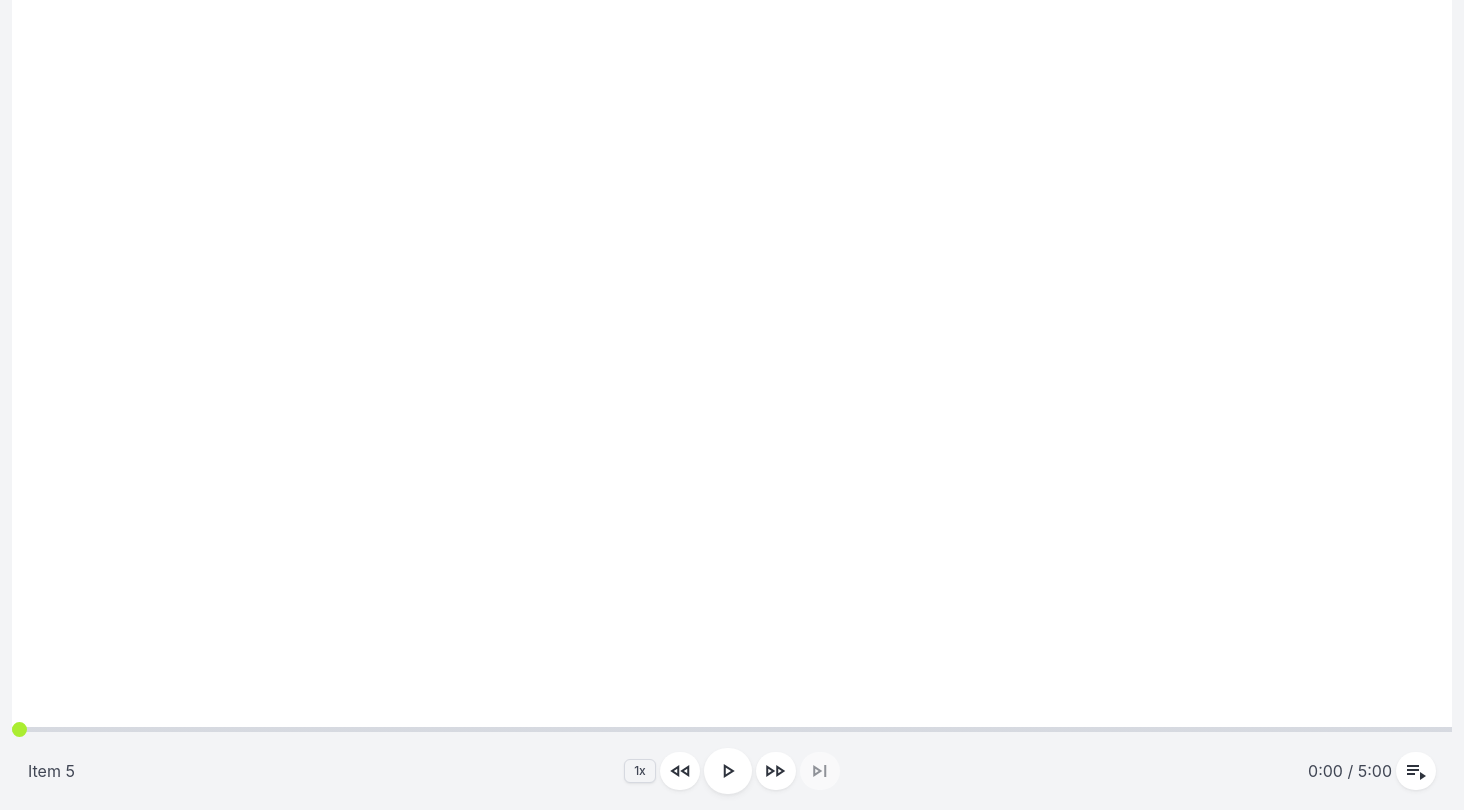
Test case: playback controls › cycles the playback rate
Click the button with class "tag". click: (640,771)
box: [624,759,656,783]
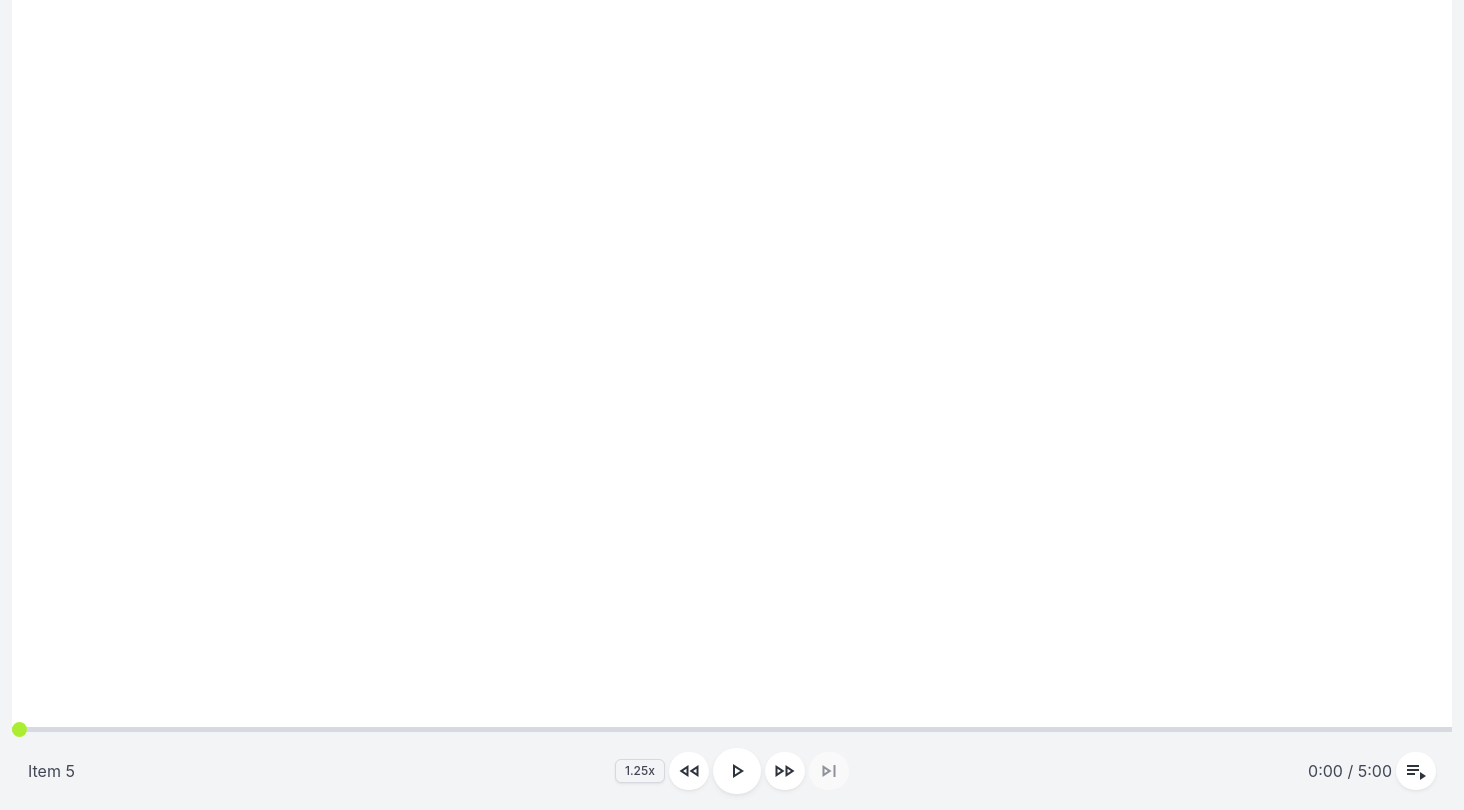
Now the button with class "tag" reads "1.25x", box [615,759,665,783]
